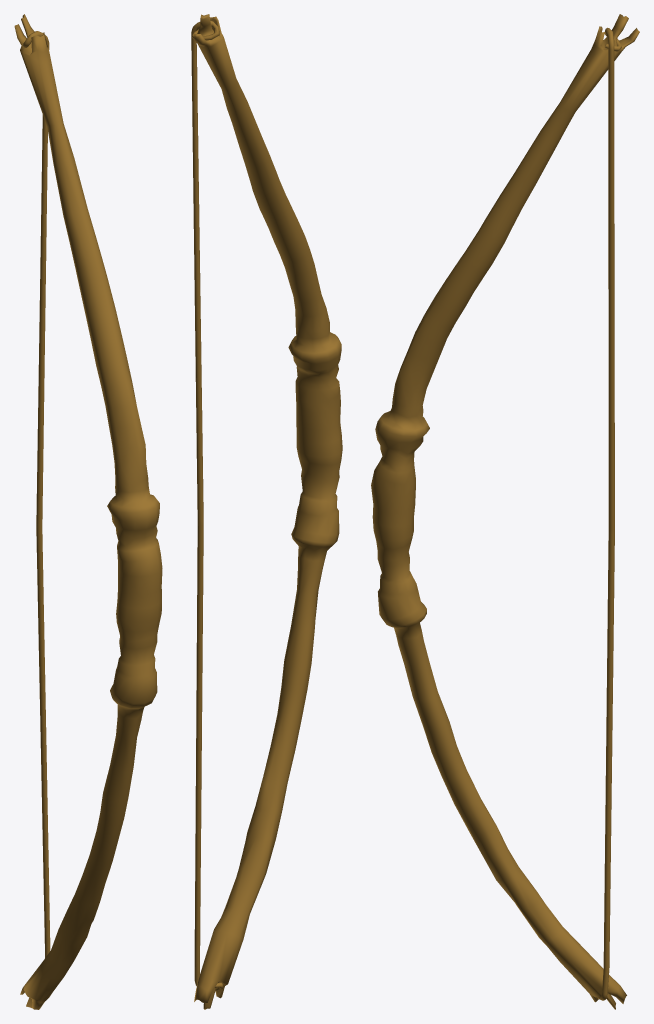
The picture shows the model from 3 angles, left to right: view 1: azimuth 30°, elevation 25°; view 2: azimuth 150°, elevation 25°; view 3: azimuth 270°, elevation 25°; orthographic projection.
Visible parts, largest first — view 1: WoodenBow; view 2: WoodenBow; view 3: WoodenBow.
Boxes of the visible parts, x1,y1,x2,y2 form: WoodenBow: (14,14,162,1009); WoodenBow: (191,14,342,1009); WoodenBow: (371,14,639,1009).
Size of the model in its own units: 442 by 9130 by 2240.
